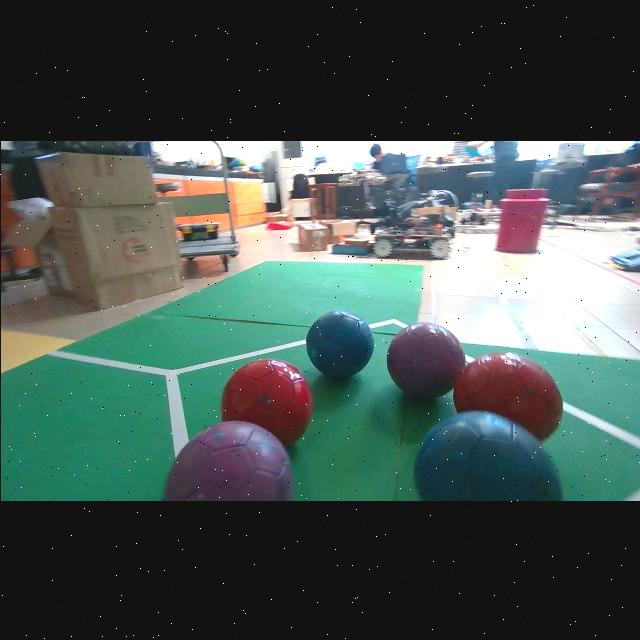B: (413, 410, 561, 500), (306, 309, 372, 377)
P: (164, 420, 293, 500), (386, 322, 464, 398)
R: (453, 351, 562, 439), (220, 358, 312, 446)
